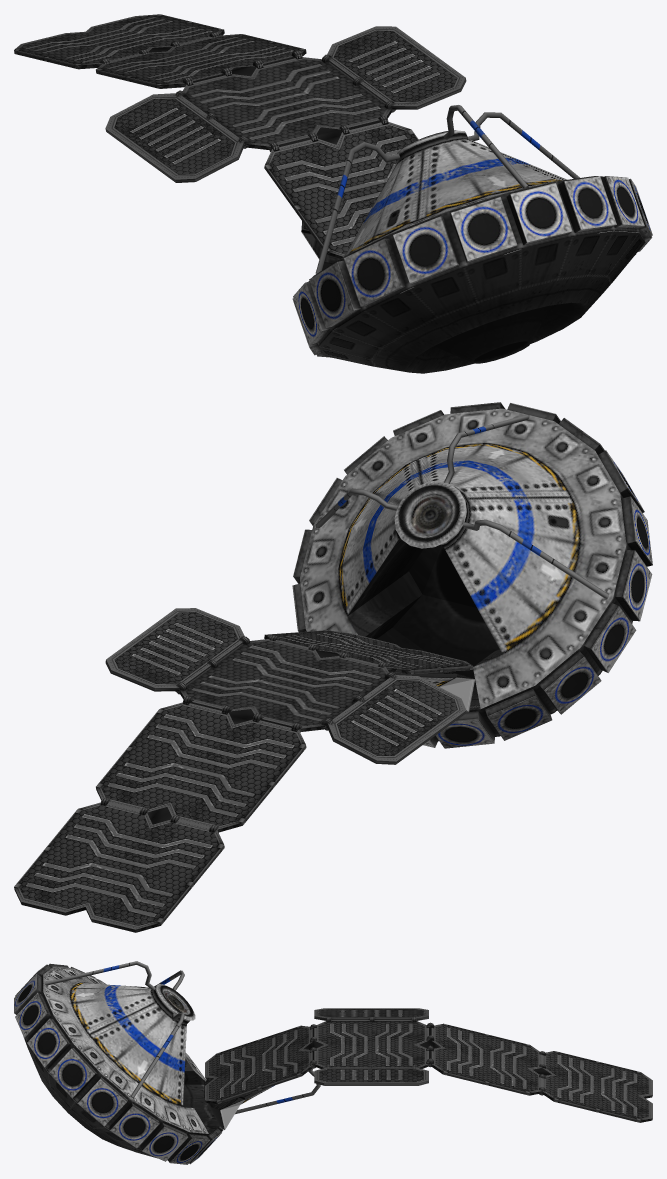
Rendered from crash_pod.dae.
The picture shows the model from 3 angles, top to bottom: view 1: azimuth 30°, elevation 25°; view 2: azimuth 150°, elevation 25°; view 3: azimuth 270°, elevation 25°; orthographic projection. The views are drawn at different scales.
Parts seen in each view (by area): view 1: space_ship, platform; view 2: space_ship, platform; view 3: space_ship, platform.
Boxes of the visible parts, left/top/right/bottom form: space_ship: left=292, top=105, right=652, bottom=373; platform: left=14, top=14, right=466, bottom=258; space_ship: left=292, top=402, right=652, bottom=748; platform: left=14, top=608, right=473, bottom=932; space_ship: left=14, top=961, right=320, bottom=1164; platform: left=205, top=1008, right=652, bottom=1122.
Bounding box in the file's own units: 6.44 × 16.72 × 5.38.
Materials: 2 (2 with a texture image).
